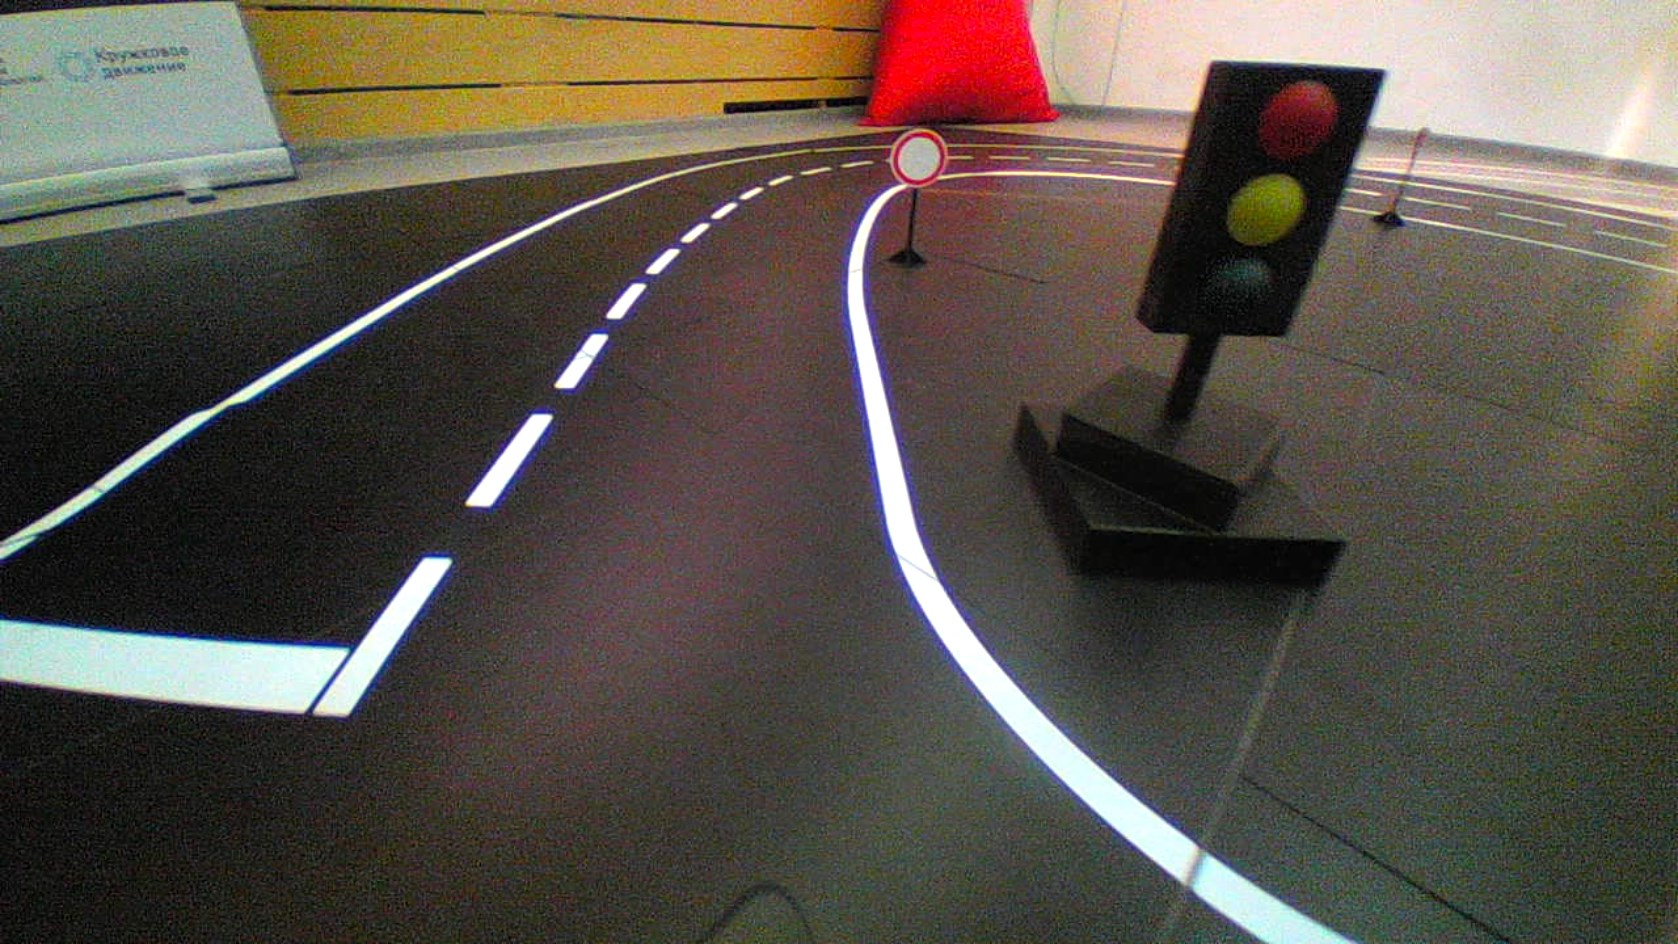trafficlight: (1133, 58, 1388, 339)
